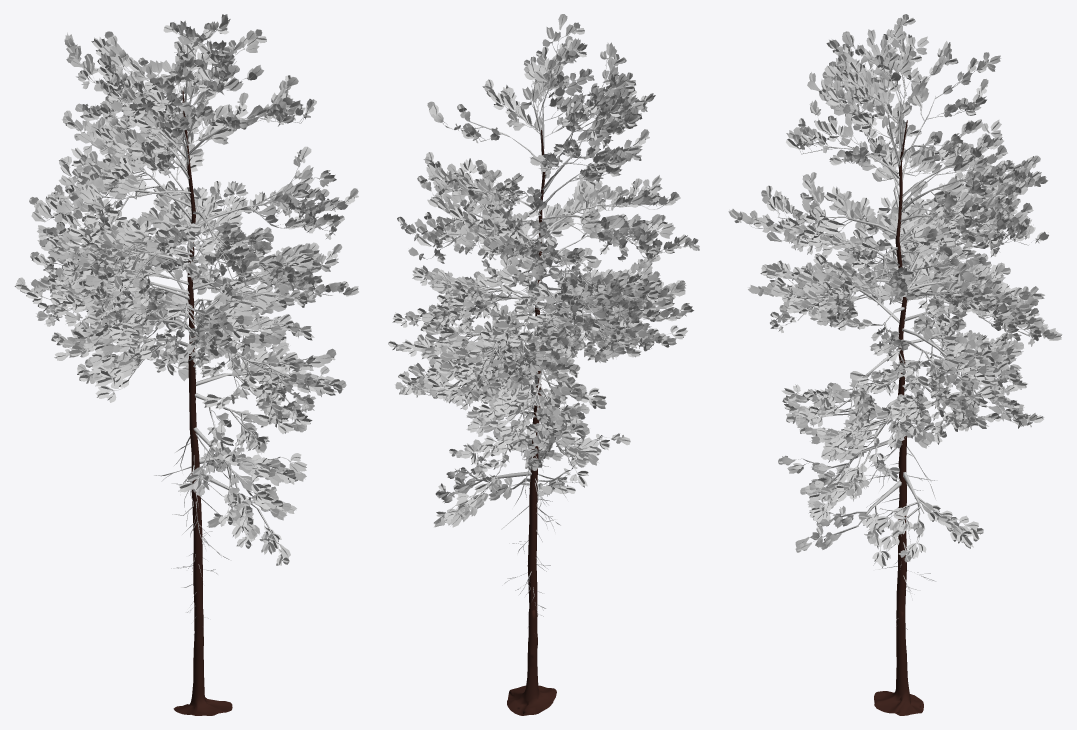
File: pine_c_lod0.obj
3 views of the same model, side by side, from view 1: azimuth 30°, elevation 25°; view 2: azimuth 150°, elevation 25°; view 3: azimuth 270°, elevation 25° (orthographic). The views are drawn at different scales.
Parts seen in each view (by area): view 1: pine_c_lod0; view 2: pine_c_lod0; view 3: pine_c_lod0.
Boxes of the visible parts, box(x1,y1,x2,y2) form: pine_c_lod0: box(14, 14, 358, 715); pine_c_lod0: box(388, 14, 699, 715); pine_c_lod0: box(728, 14, 1062, 715).
Size of the model in its own units: 300 by 691 by 310.
